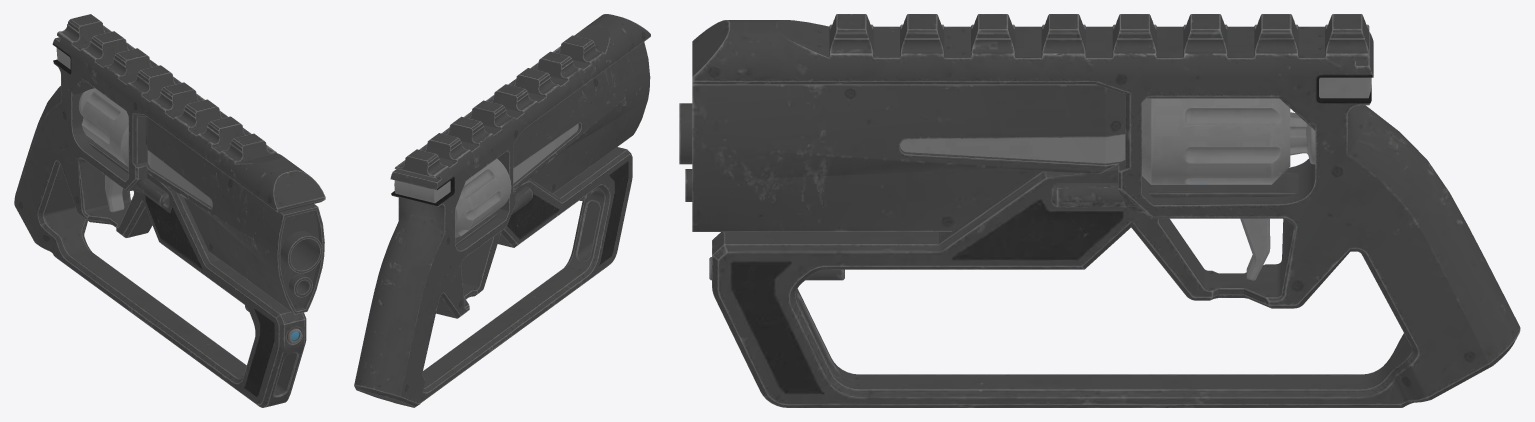
3 views of the same model, side by side, from view 1: azimuth 30°, elevation 25°; view 2: azimuth 150°, elevation 25°; view 3: azimuth 270°, elevation 25° (orthographic). The views are drawn at different scales.
Parts seen in each view (by area): view 1: Object_3, Object_2; view 2: Object_3, Object_2; view 3: Object_3, Object_2.
Boxes of the visible parts, x1,y1,x2,y2 form: Object_3: (14,14,325,407); Object_2: (52,43,324,343); Object_3: (354,14,650,407); Object_2: (390,42,650,237); Object_3: (692,14,1520,407); Object_2: (679,40,1373,280).
Bounding box in the file's own units: 0.0293 × 0.1193 × 0.24.
Materials: 1 (1 with a texture image).
